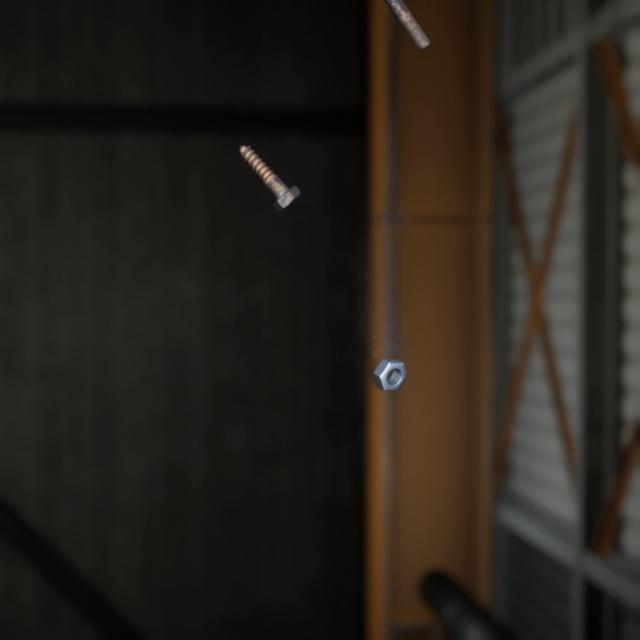bolt: (234, 126, 305, 202), (383, 0, 434, 49)
nut: (368, 335, 411, 377)
